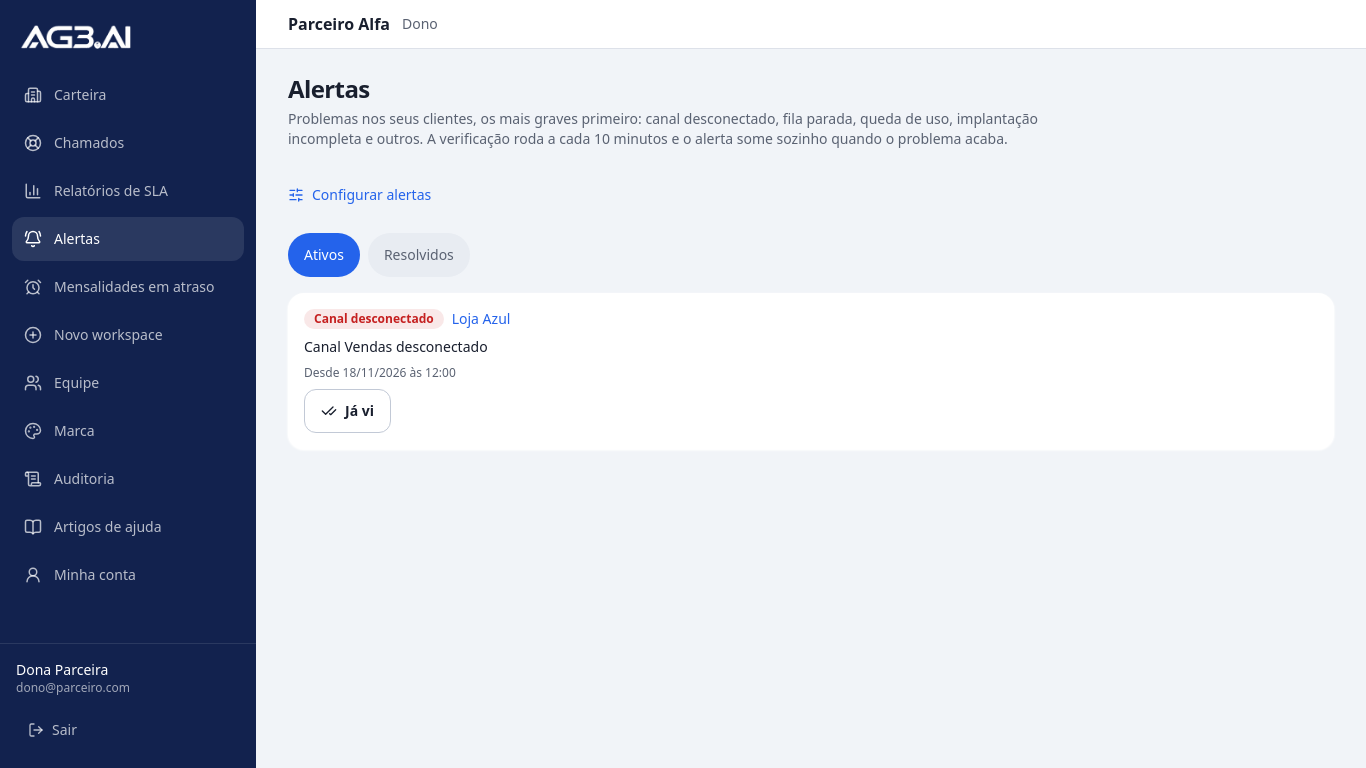
alertas › aba de resolvidos e lista vazia
This screenshot has width=1366, height=768.
Check: the text "Canal Vendas desconectado" is shown, box 304,337 -> 488,356
Click the tab "Resolvidos": (419, 255) 368,233 -> 470,277
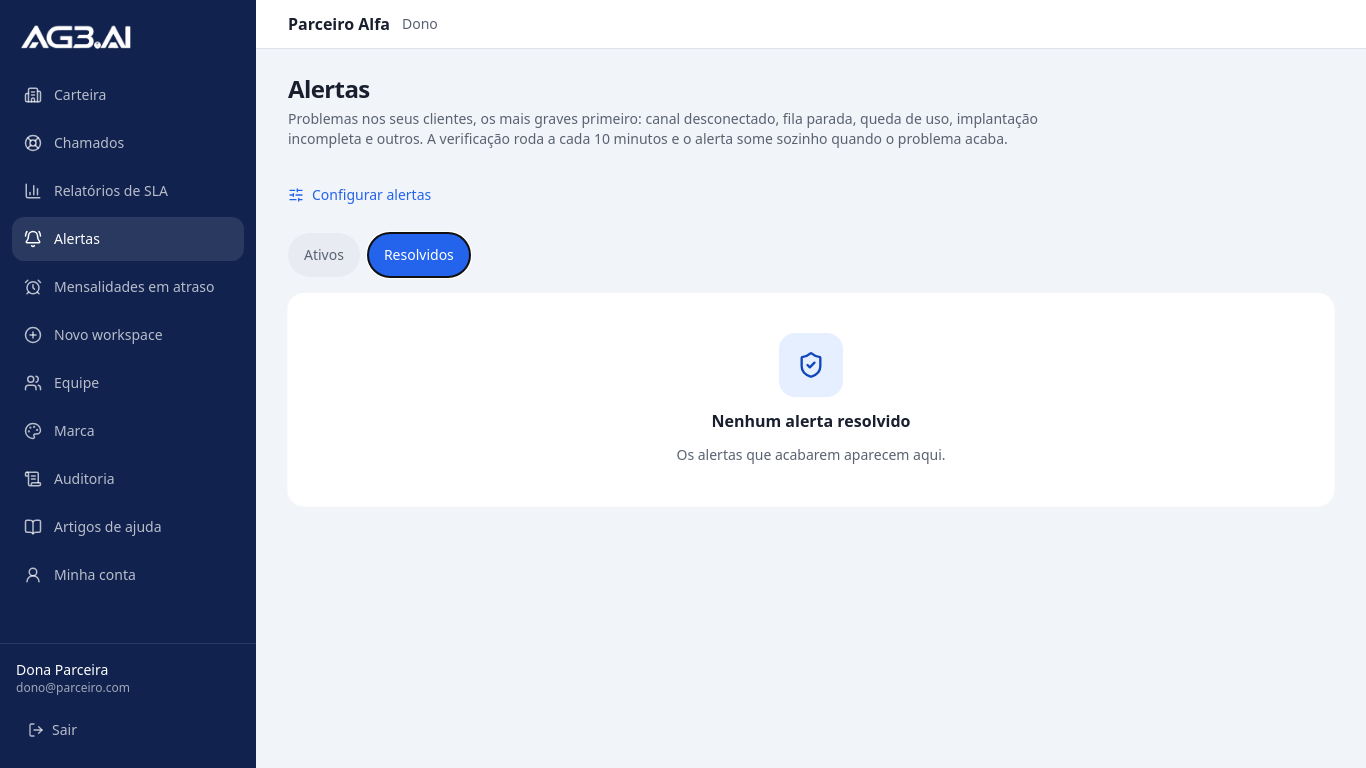
Check: the heading "Nenhum alerta resolvido" is shown, box 712,409 -> 911,433
